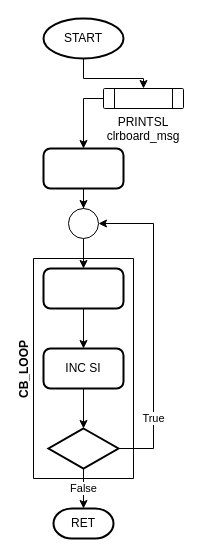
Some shapes in this 201 by 556 pixel diagram are drawn without their labels. Here are the shapes that lost their labels. From the top down, the centre of each, then its label:
At point (83, 168): "MOV SI, 0".
At point (83, 288): "MOV board[SI], '-'".
At point (83, 448): "SI < 64".
